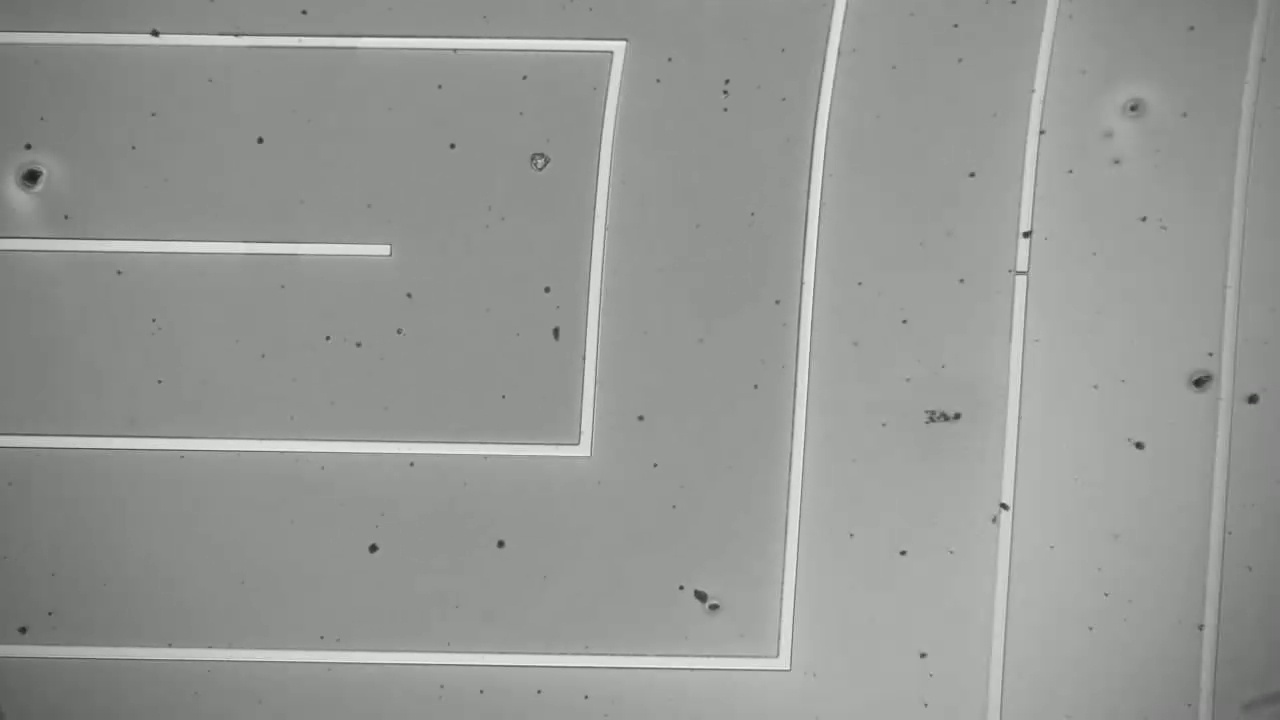open: (1006, 263, 1036, 289)
stains_enbedded: (996, 500, 1021, 517), (1016, 224, 1037, 243)
